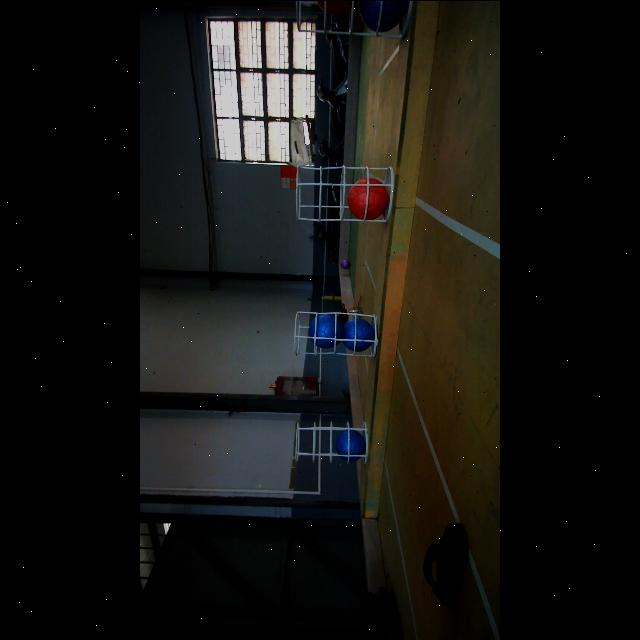B: (359, 1, 406, 34), (308, 314, 342, 348), (342, 318, 374, 352), (336, 431, 366, 462)
R: (348, 178, 388, 220), (316, 0, 356, 16)
